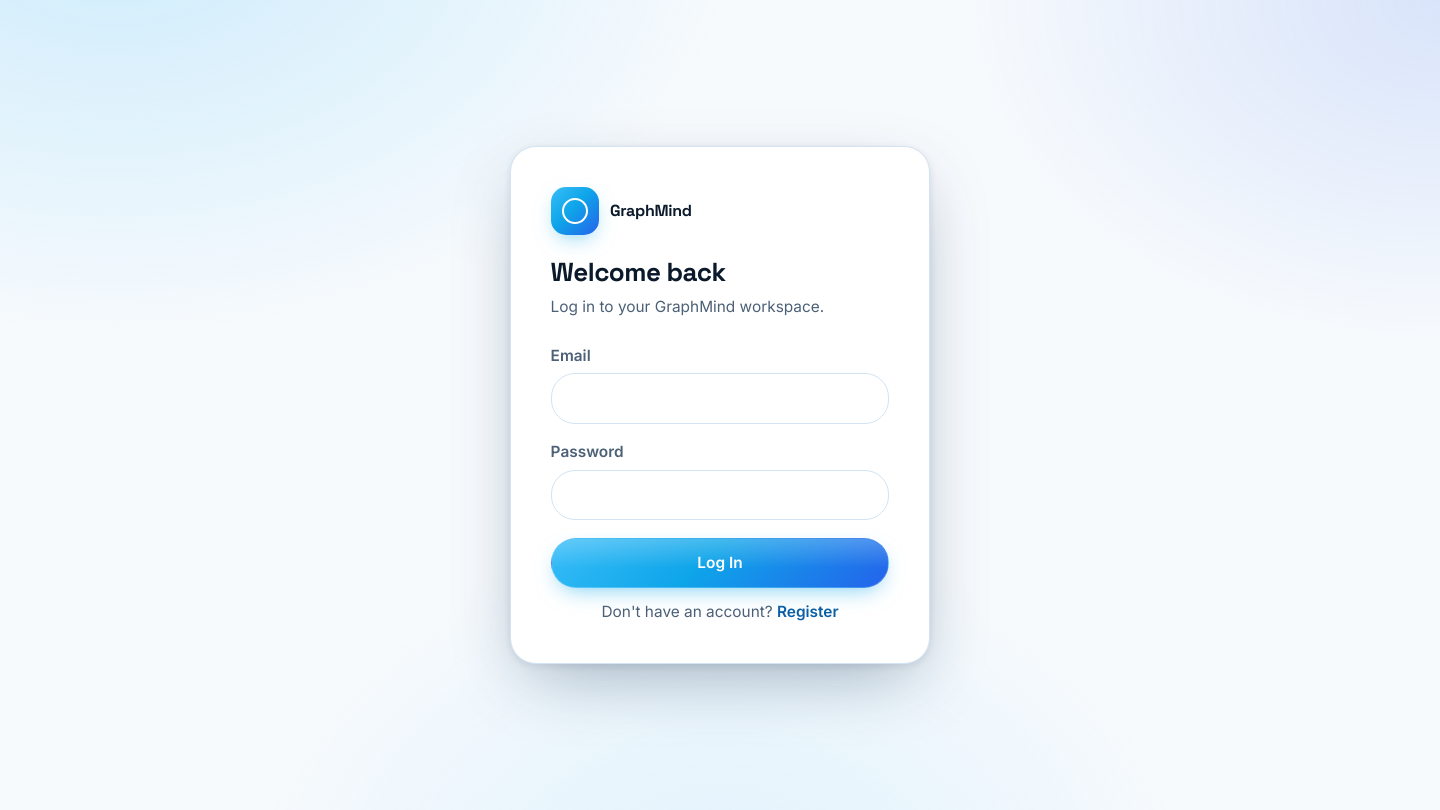
LoginPage redirect-target logic › shows the error and stays on the page when login rejects
Type "maria@example.com" into the field labelled "Email" at [720, 398], box [551, 373, 889, 424]
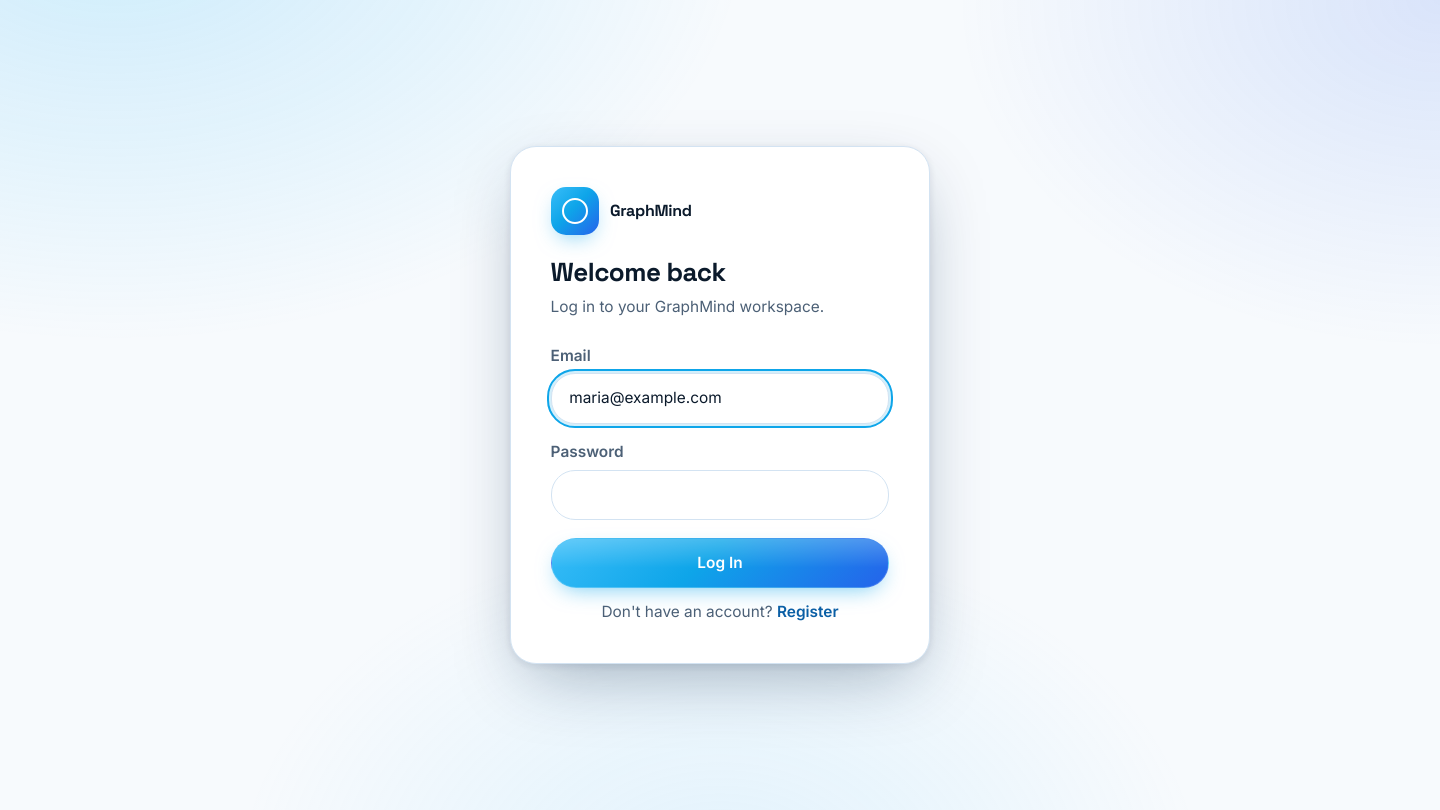
Type "correct horse battery staple" into the password field labelled "Password" at [720, 495], box [551, 470, 889, 520]
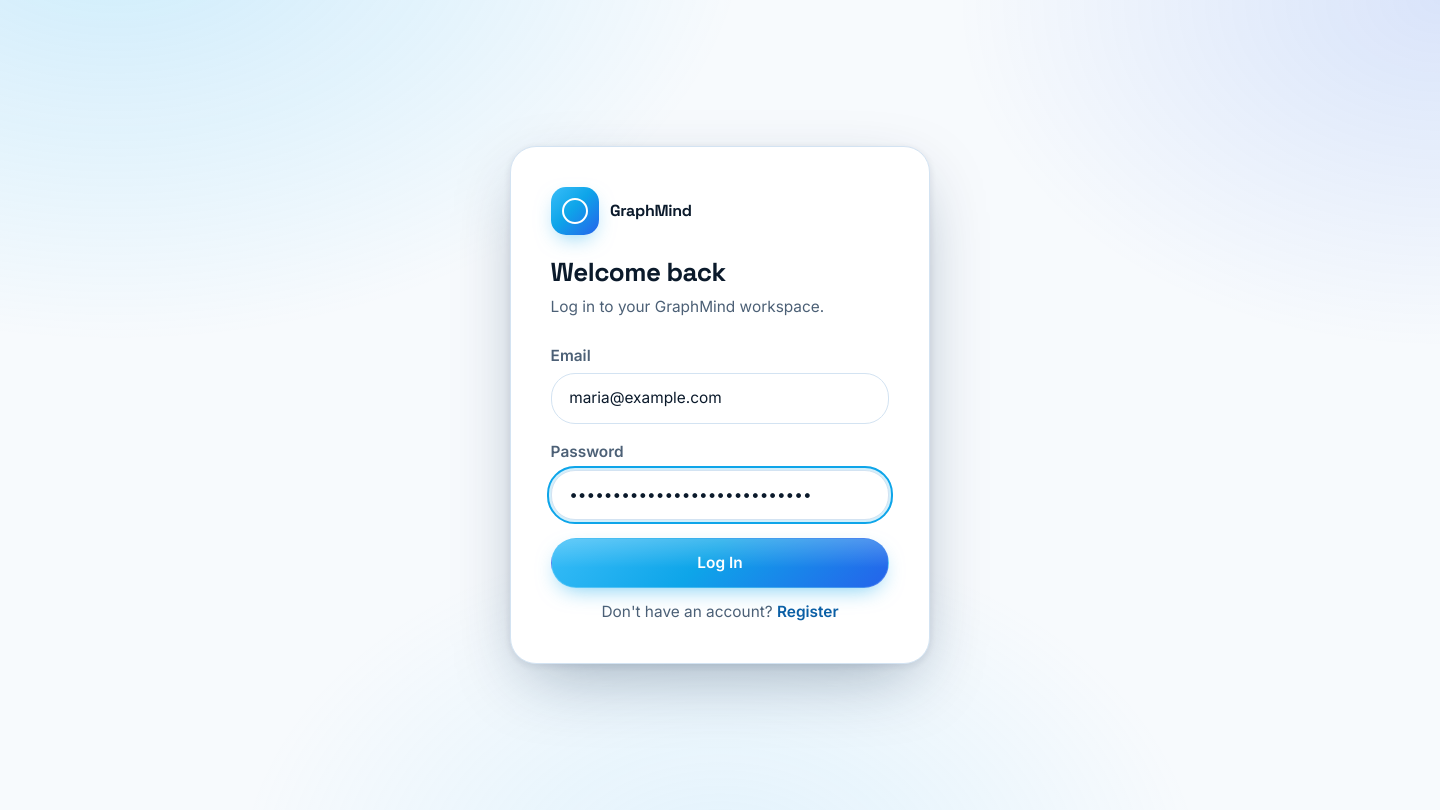
Click the button "Log In" at [720, 563], box [551, 538, 889, 588]
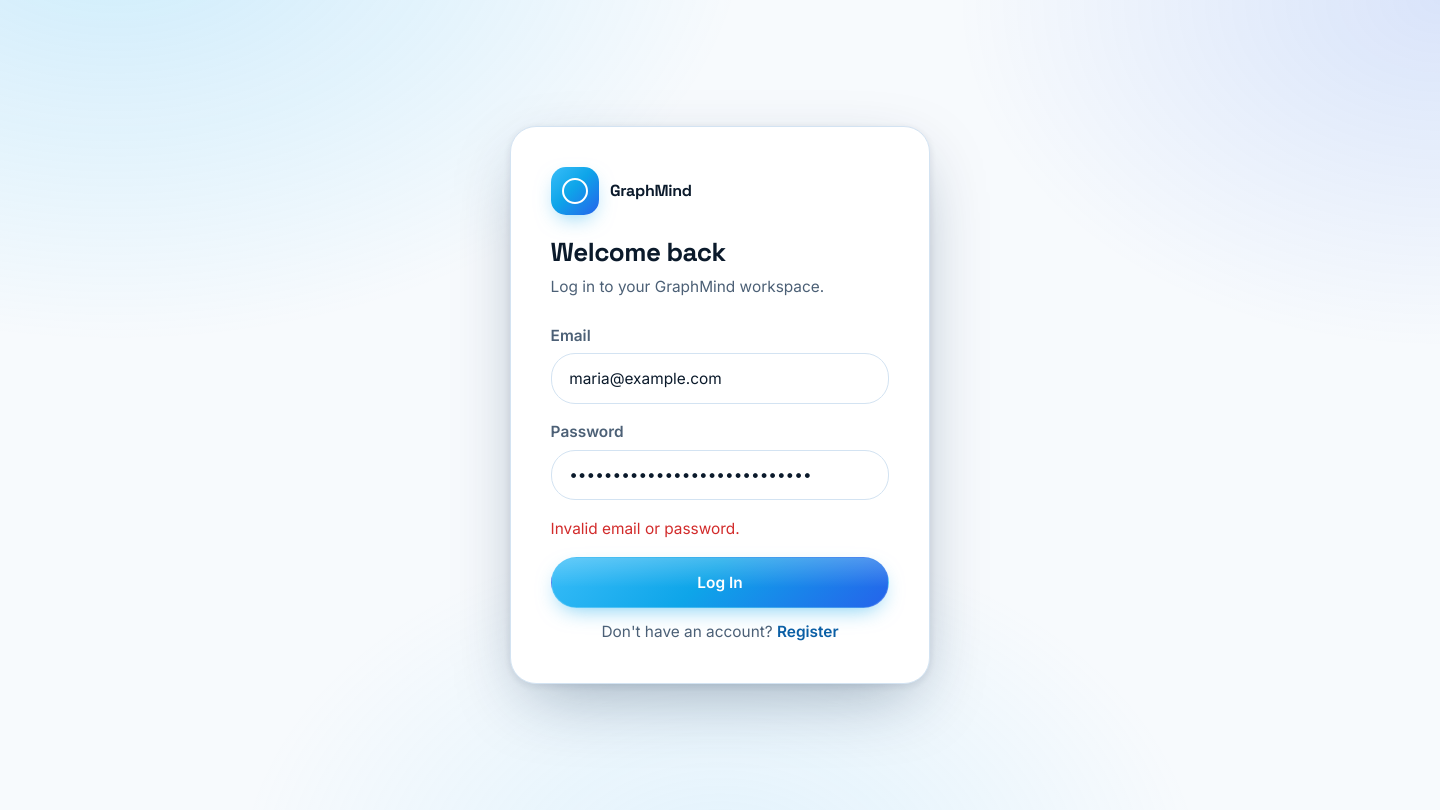
Check: the message reads "Invalid email or password.", box [551, 519, 740, 538]
